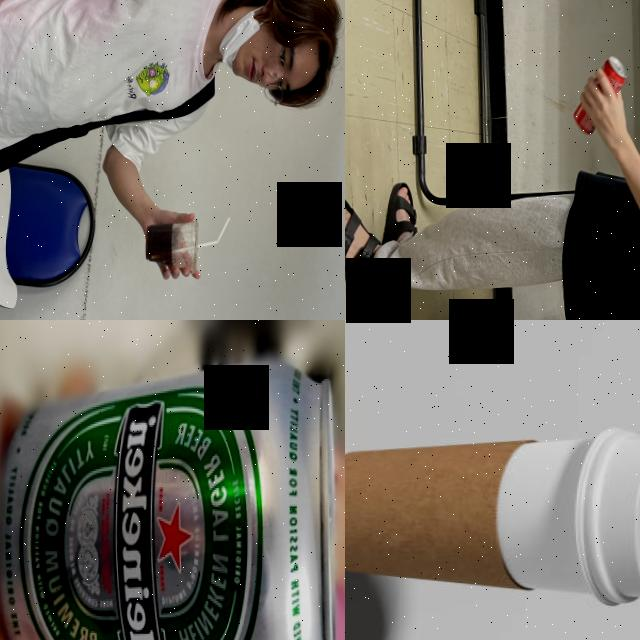can: (0, 355, 343, 640), (571, 52, 628, 136)
cup: (345, 421, 640, 613), (141, 216, 202, 280)
